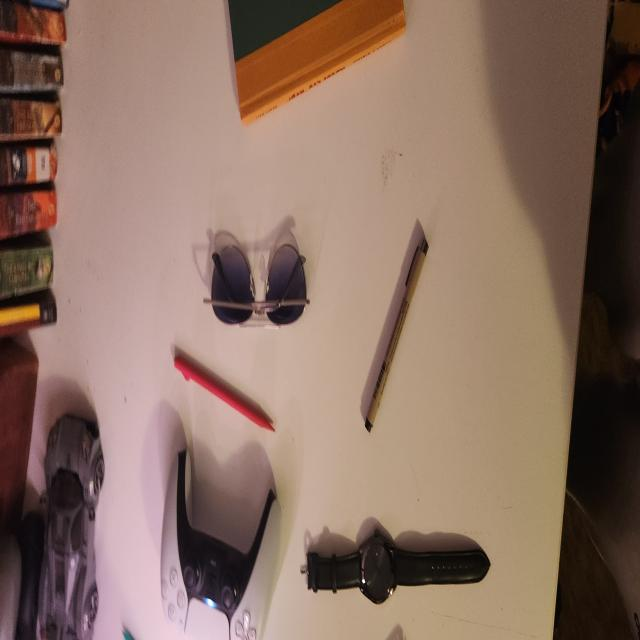Controller: (174, 487, 250, 622)
Glasses: (208, 218, 310, 328)
Pen: (306, 519, 491, 606), (361, 224, 431, 432), (175, 360, 276, 432)
